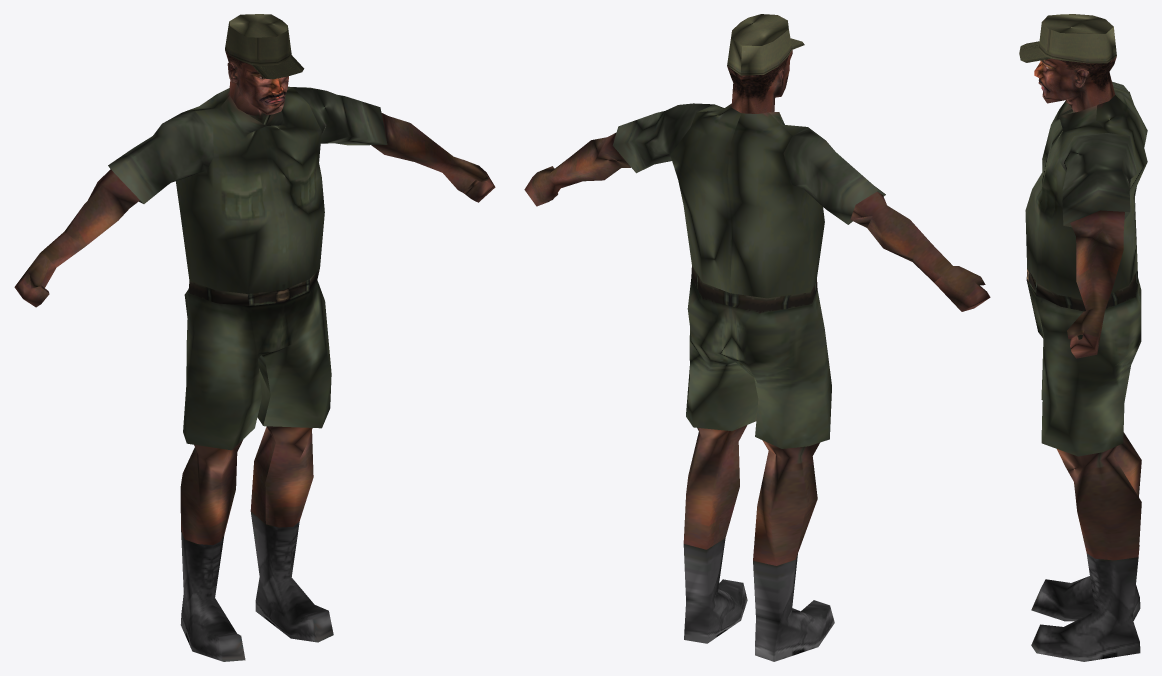
File: eTier1c.glb
3 renders of one model, left to right at view 1: azimuth 30°, elevation 25°; view 2: azimuth 150°, elevation 25°; view 3: azimuth 270°, elevation 25°, orthographic. The views are drawn at different scales.
Parts seen in each view (by area): view 1: _eTier1c; view 2: _eTier1c; view 3: _eTier1c.
Part boxes in pixels (bbox=[...]): _eTier1c: bbox=[14, 14, 495, 661]; _eTier1c: bbox=[524, 14, 990, 661]; _eTier1c: bbox=[1019, 14, 1147, 661].
Bounding box in the file's own units: 1.57 × 1.97 × 0.3745.
1 material, 1 textured.
